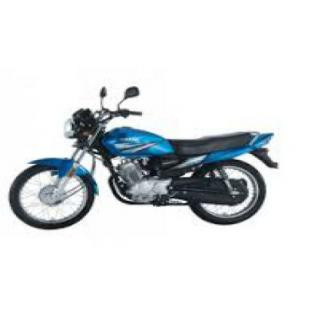Motocicleta: (7, 76, 284, 231)
